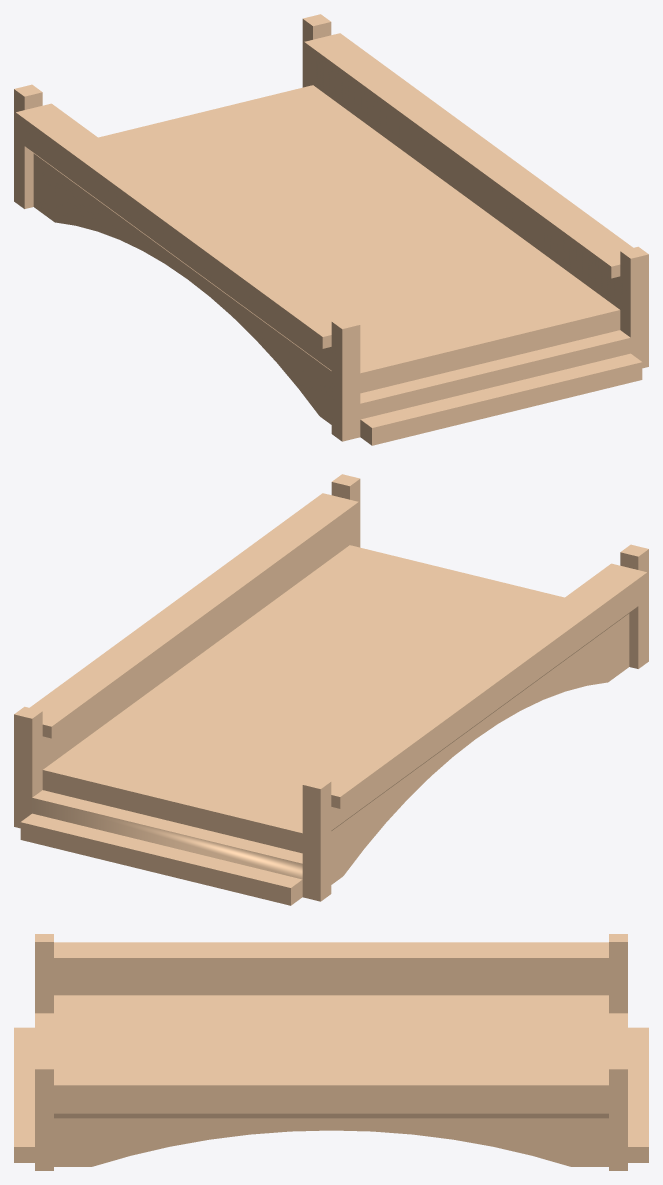
Rendered from bridge_straight.fbx.
The picture shows the model from 3 angles, top to bottom: view 1: azimuth 30°, elevation 25°; view 2: azimuth 150°, elevation 25°; view 3: azimuth 270°, elevation 25°; orthographic projection. The views are drawn at different scales.
Visible parts, largest first — view 1: bridge_straight; view 2: bridge_straight; view 3: bridge_straight.
Boxes of the visible parts, x1,y1,x2,y2 form: bridge_straight: (14, 14, 648, 445); bridge_straight: (14, 474, 648, 905); bridge_straight: (14, 934, 648, 1170).
Size of the model in its own units: 152 by 50.29 by 285.
